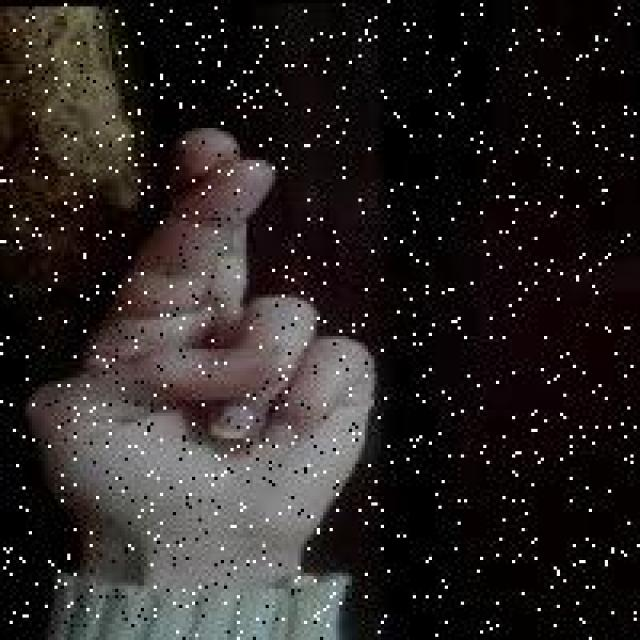R: (16, 114, 387, 562)
